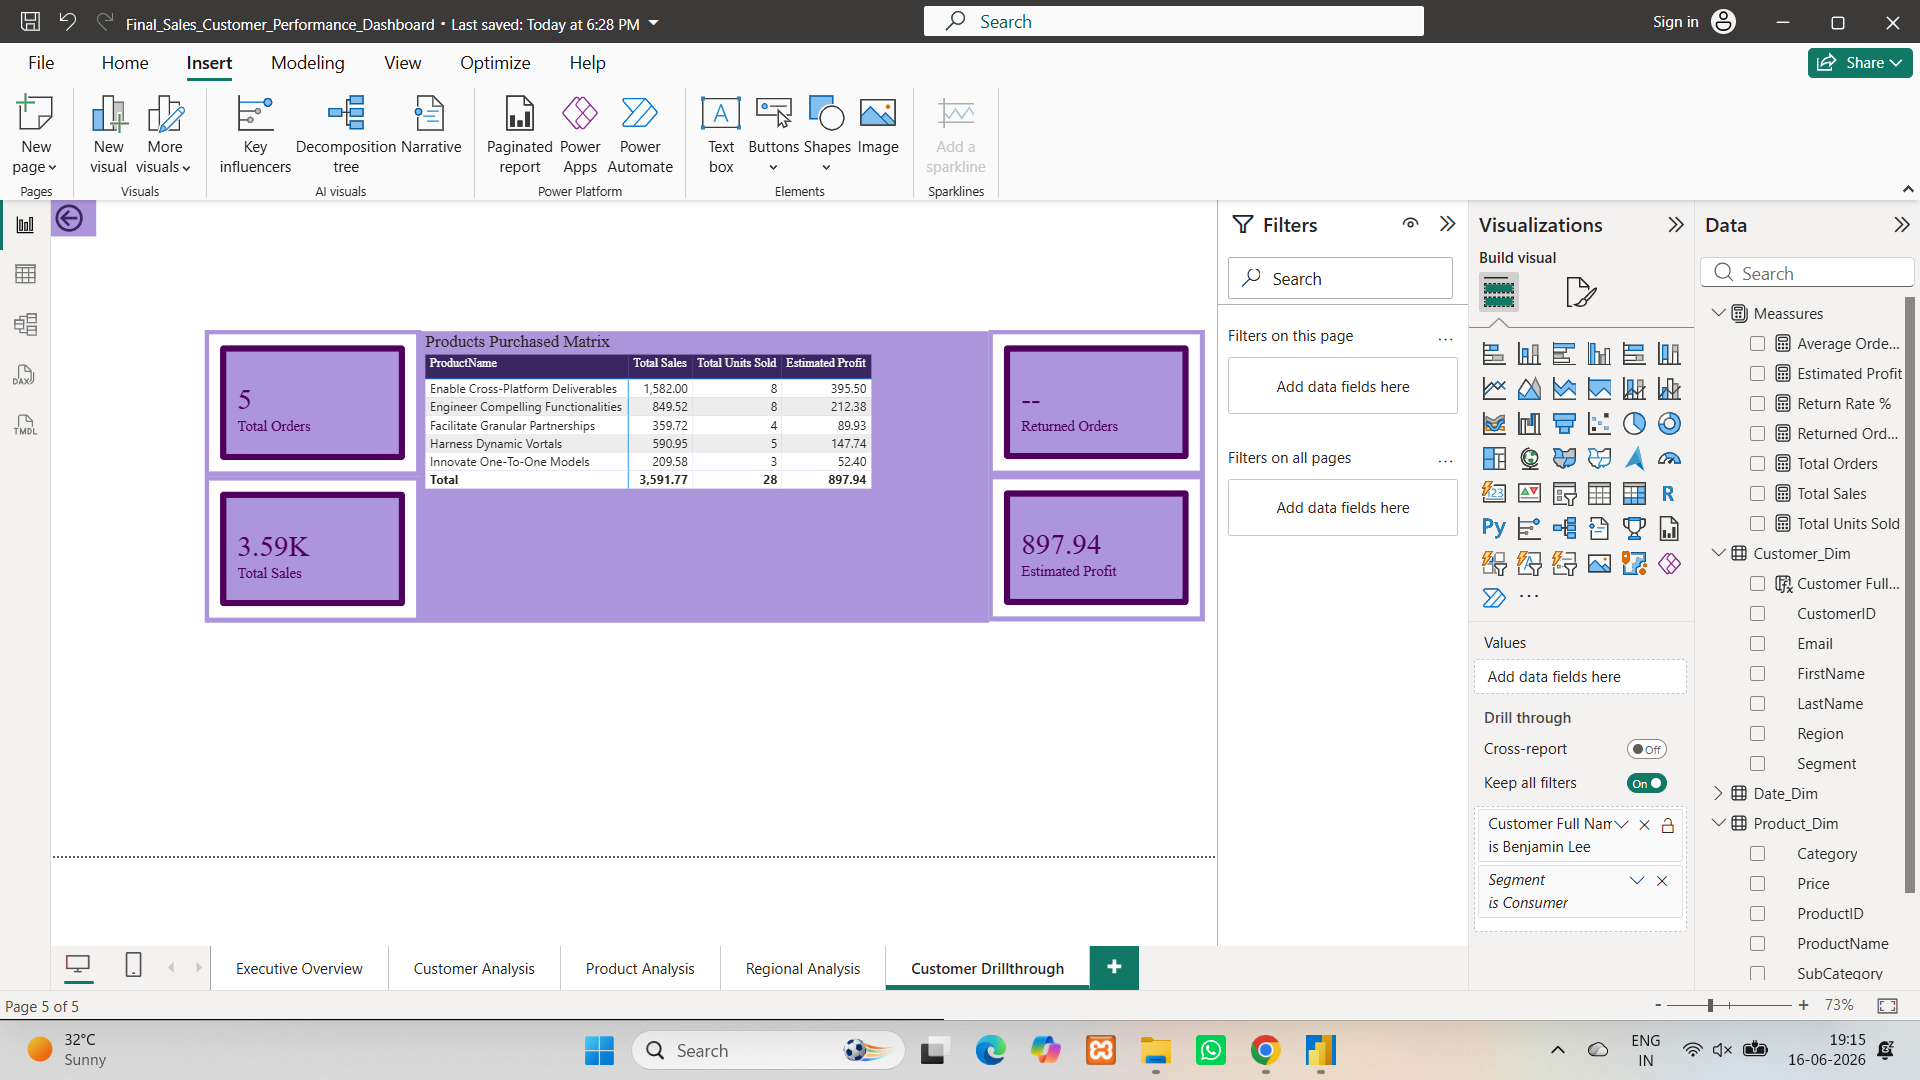

This screenshot's page, from the dashboard's own definition file:
{"tool":"powerbi","page":{"name":"Customer Drillthrough","canvas":[1280,720],"ordinal":4},"visuals":[{"type":"actionButton","box":[0,0,49.4,39.8],"z":0},{"type":"pivotTable","title":"Products Purchased Matrix","fields":{"Rows":["Product_Dim.ProductName"],"Values":["Meassures.Total Sales","Meassures.Total Units Sold","Meassures.Estimated Profit"]},"box":[406.2,144.1,623,319.7],"z":1},{"type":"cardVisual","fields":{"Data":["Meassures.Total Sales"]},"box":[168.8,303.3,237.4,160.5],"z":2},{"type":"cardVisual","fields":{"Data":["Meassures.Total Orders"]},"box":[168.8,142.7,237.4,160.5],"z":3},{"type":"cardVisual","fields":{"Data":["Meassures.Estimated Profit"]},"box":[1029.2,301.9,237.4,160.5],"z":4},{"type":"cardVisual","fields":{"Data":["Meassures.Returned Orders"]},"box":[1029.2,142.7,237.4,159.2],"z":5}]}

Visuals, with their boxes on the page's 1280x720 design canvas (x1, y1, x2, y2). These are canvas units, not pixel positions in the 1920x1080 screenshot, which may show the page scaled, cropped or inside an application window:
actionButton: left=0, top=0, right=49, bottom=40
"Products Purchased Matrix" pivotTable: left=406, top=144, right=1029, bottom=464
cardVisual - Meassures.Total Sales: left=169, top=303, right=406, bottom=464
cardVisual - Meassures.Total Orders: left=169, top=143, right=406, bottom=303
cardVisual - Meassures.Estimated Profit: left=1029, top=302, right=1267, bottom=462
cardVisual - Meassures.Returned Orders: left=1029, top=143, right=1267, bottom=302
